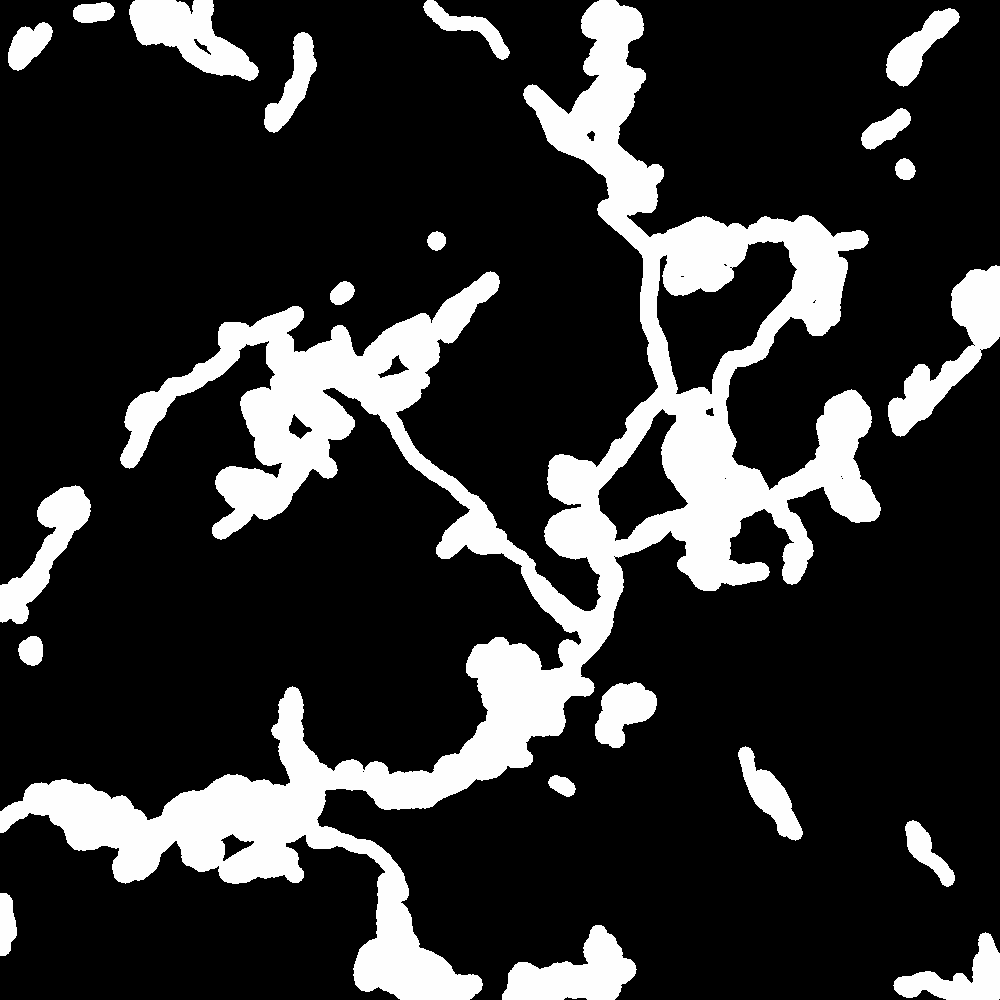illegal: (28, 630, 662, 884), (242, 253, 584, 630), (1, 303, 283, 636), (532, 381, 886, 588), (1, 1, 327, 126), (539, 1, 668, 206), (614, 200, 753, 384), (886, 256, 1000, 446), (853, 1, 973, 180), (361, 851, 482, 1000), (749, 203, 878, 334), (500, 921, 656, 1000), (326, 278, 356, 306)
